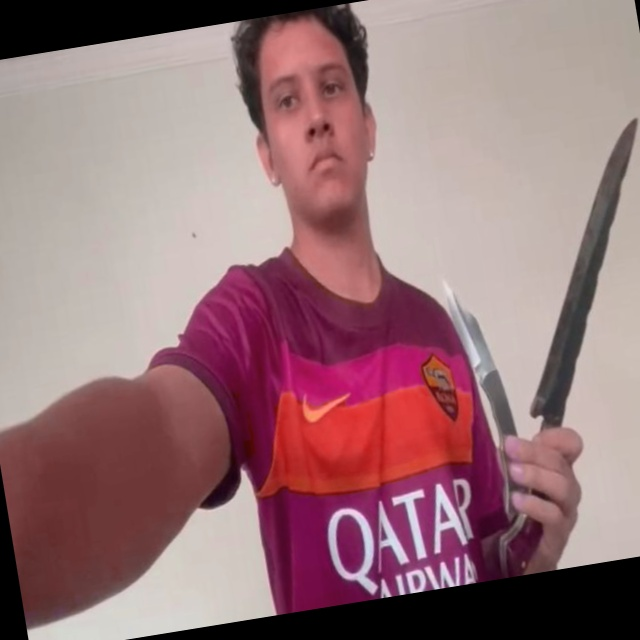Sharp-Object: (488, 114, 640, 420), (439, 270, 497, 386)
